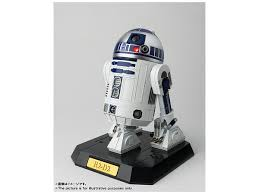r2d2: (101, 28, 186, 155)
